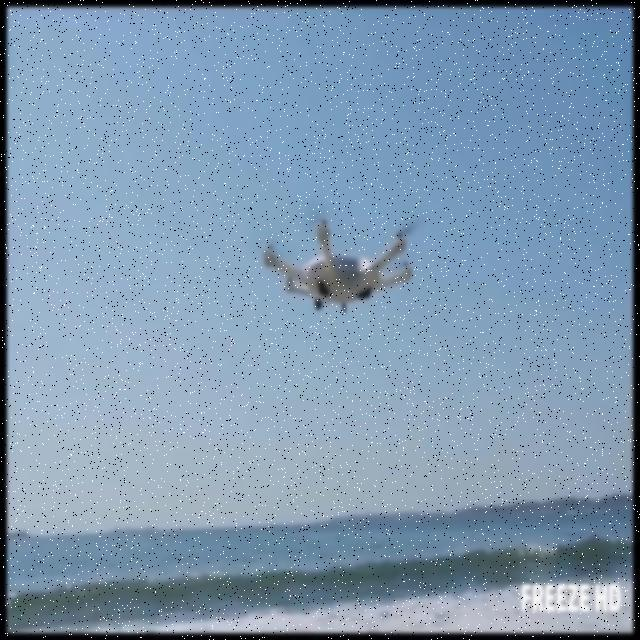UAV: (261, 215, 415, 317)
